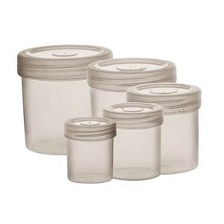plastic_box: (10, 39, 117, 160), (122, 78, 205, 178), (81, 52, 182, 122), (98, 98, 167, 183), (59, 113, 120, 185)
